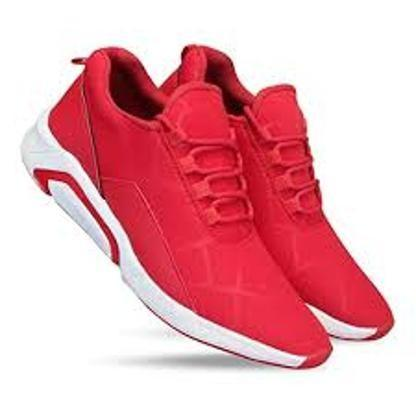not trash: (20, 42, 393, 369)
